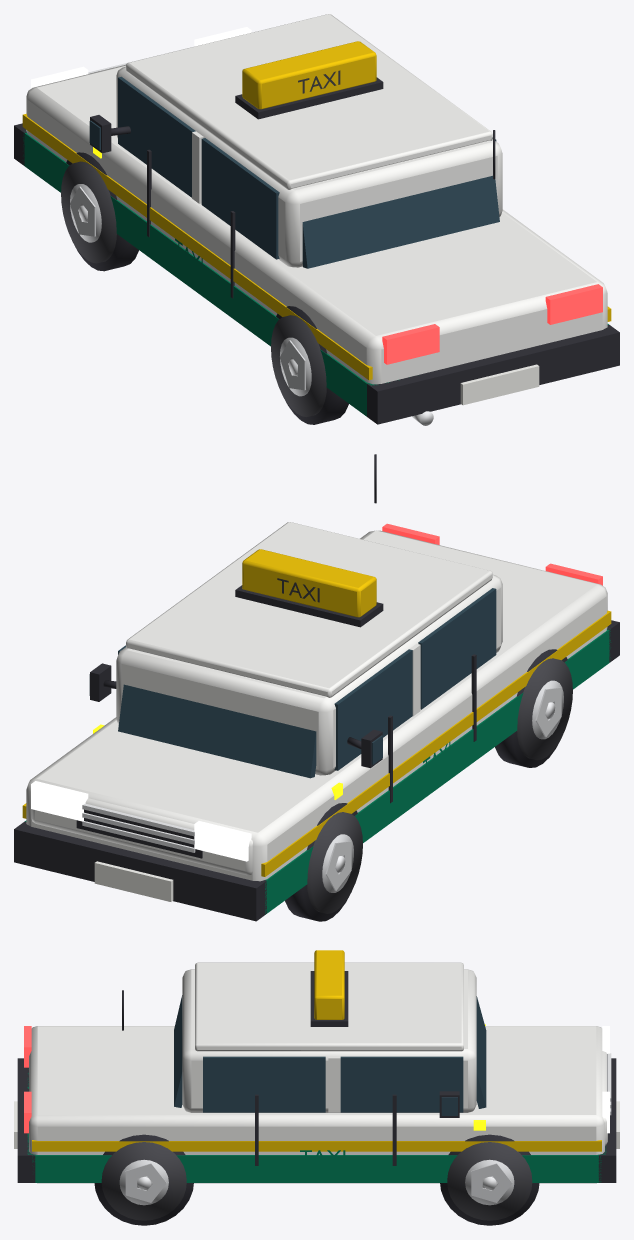
The model's file is taxi.glb.
3 views of the same model, one above another, from view 1: azimuth 30°, elevation 25°; view 2: azimuth 150°, elevation 25°; view 3: azimuth 270°, elevation 25° (orthographic). The views are drawn at different scales.
Visible parts, largest first — view 1: Taxi_Body.001, Taxi_Roof.001, Taxi_Cabin.001, Taxi_RearWindow.001, Taxi_Bumper_R.001, Taxi_GreenBand.003, Taxi_RoofSign.001, Taxi_SideWindow_R.003, Taxi_SideWindow_F.003, Taxi_YellowStripe.003, Taxi_Wheel.005, Taxi_Wheel.007 (+9 smaller); view 2: Taxi_Body.001, Taxi_Roof.001, Taxi_Cabin.001, Taxi_Windshield.001, Taxi_Bumper_F.001, Taxi_GreenBand.003, Taxi_RoofSign.001, Taxi_SideWindow_R.003, Taxi_SideWindow_F.003, Taxi_YellowStripe.003, Taxi_Hood.001, Taxi_Wheel.007 (+13 smaller); view 3: Taxi_Body.001, Taxi_Roof.001, Taxi_GreenBand.002, Taxi_SideWindow_R.002, Taxi_SideWindow_F.002, Taxi_Cabin.001, Taxi_YellowStripe.002, Taxi_Wheel.004, Taxi_Wheel.006, Taxi_RoofSign.001, Taxi_Bumper_R.001, Taxi_Wheel_Well.004 (+8 smaller).
Part boxes in pixels (x1=…): Taxi_Body.001: x1=26, y1=65, x2=607, y2=384; Taxi_Roof.001: x1=126, y1=14, x2=492, y2=189; Taxi_Cabin.001: x1=116, y1=66, x2=502, y2=267; Taxi_RearWindow.001: x1=302, y1=175, x2=499, y2=268; Taxi_Bumper_R.001: x1=367, y1=324, x2=619, y2=424; Taxi_GreenBand.003: x1=22, y1=131, x2=370, y2=416; Taxi_RoofSign.001: x1=242, y1=41, x2=376, y2=109; Taxi_SideWindow_R.003: x1=201, y1=138, x2=279, y2=259; Taxi_SideWindow_F.003: x1=118, y1=76, x2=195, y2=197; Taxi_YellowStripe.003: x1=22, y1=113, x2=372, y2=380; Taxi_Wheel.005: x1=61, y1=161, x2=116, y2=263; Taxi_Wheel.007: x1=271, y1=315, x2=326, y2=417; Taxi_Body.001: x1=26, y1=530, x2=607, y2=881; Taxi_Roof.001: x1=126, y1=522, x2=492, y2=697; Taxi_Cabin.001: x1=116, y1=574, x2=502, y2=775; Taxi_Windshield.001: x1=118, y1=684, x2=316, y2=778; Taxi_Bumper_F.001: x1=14, y1=821, x2=266, y2=921; Taxi_GreenBand.003: x1=265, y1=629, x2=611, y2=914; Taxi_RoofSign.001: x1=242, y1=549, x2=376, y2=617; Taxi_SideWindow_R.003: x1=418, y1=588, x2=496, y2=709; Taxi_SideWindow_F.003: x1=334, y1=649, x2=412, y2=770; Taxi_YellowStripe.003: x1=261, y1=610, x2=611, y2=876; Taxi_Hood.001: x1=31, y1=798, x2=252, y2=875; Taxi_Wheel.007: x1=517, y1=658, x2=572, y2=760; Taxi_Body.001: x1=29, y1=1026, x2=604, y2=1183; Taxi_Roof.001: x1=195, y1=962, x2=463, y2=1051; Taxi_GreenBand.002: x1=32, y1=1154, x2=601, y2=1182; Taxi_SideWindow_R.002: x1=203, y1=1056, x2=325, y2=1112; Taxi_SideWindow_F.002: x1=340, y1=1056, x2=463, y2=1112; Taxi_Cabin.001: x1=182, y1=969, x2=476, y2=1112; Taxi_YellowStripe.002: x1=32, y1=1140, x2=601, y2=1151; Taxi_Wheel.004: x1=447, y1=1142, x2=532, y2=1220; Taxi_Wheel.006: x1=101, y1=1142, x2=186, y2=1220; Taxi_RoofSign.001: x1=314, y1=950, x2=344, y2=1019; Taxi_Bumper_R.001: x1=17, y1=1058, x2=35, y2=1182; Taxi_Wheel_Well.004: x1=440, y1=1134, x2=539, y2=1225.
Size of the model in its own units: 2.15 by 1.86 by 4.84.
